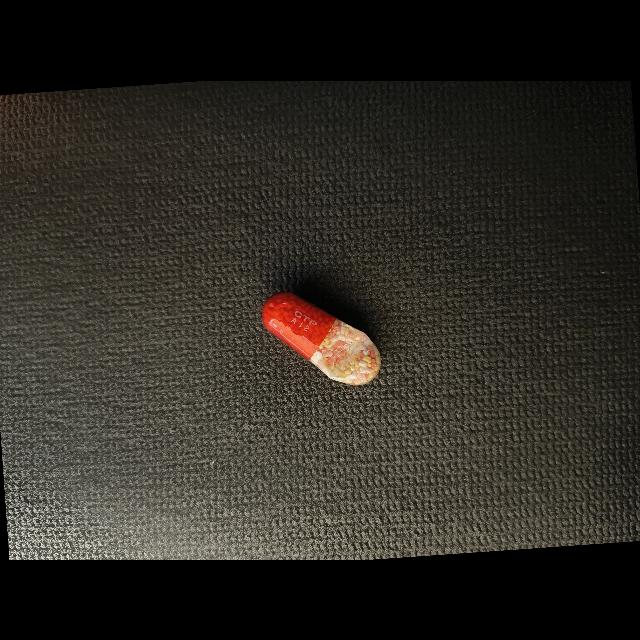Defective Capsule: (262, 292, 381, 385)
